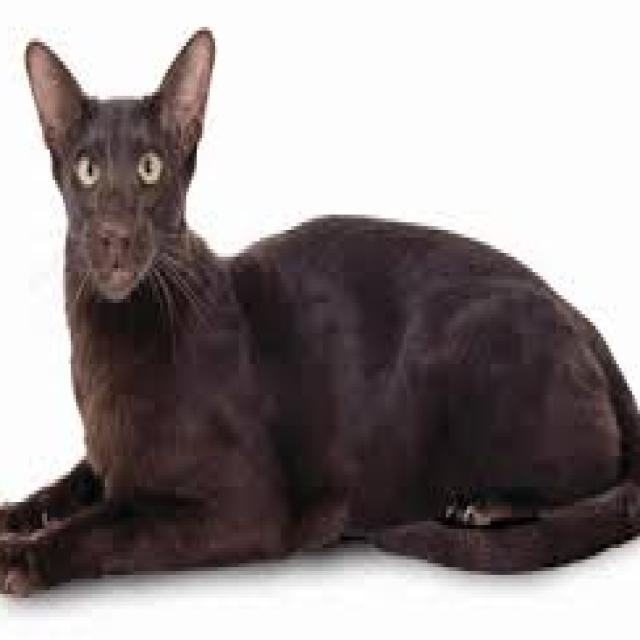Oriental: (0, 23, 640, 602)
